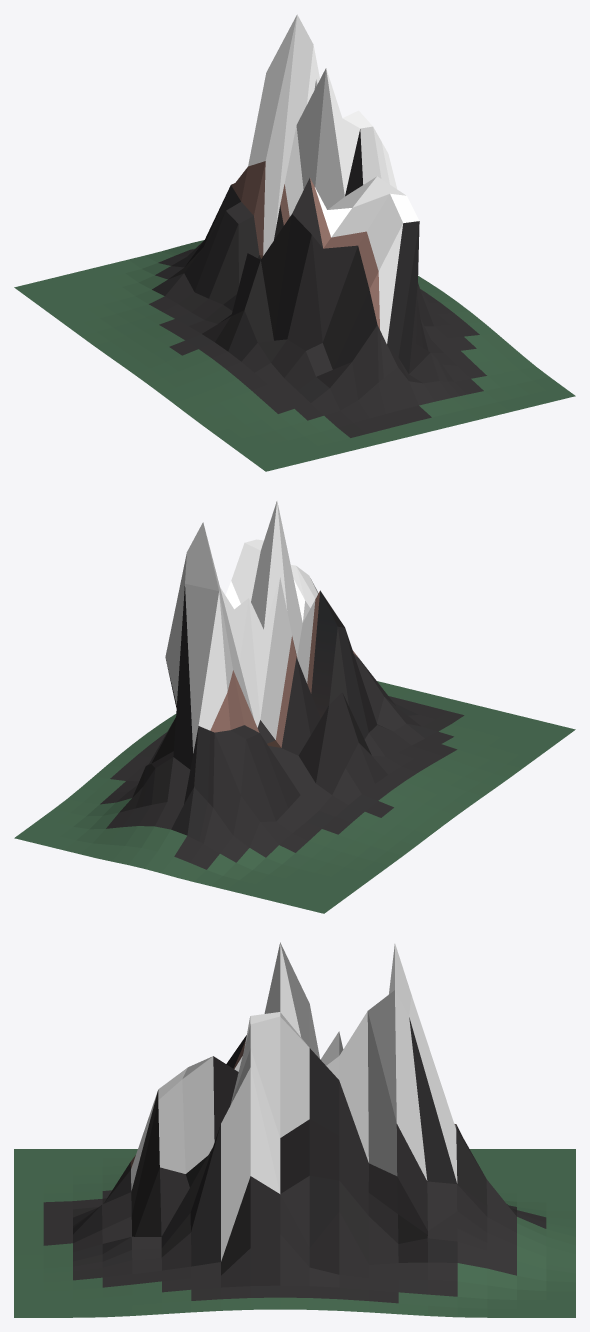
The model's file is Mountain_04.fbx.
3 renders of one model, top to bottom at view 1: azimuth 30°, elevation 25°; view 2: azimuth 150°, elevation 25°; view 3: azimuth 270°, elevation 25°, orthographic. The views are drawn at different scales.
Visible parts, largest first — view 1: Mountain_04; view 2: Mountain_04; view 3: Mountain_04.
Part boxes in pixels (x1,y1,x2,y2): Mountain_04: (14,14,575,471); Mountain_04: (14,500,575,913); Mountain_04: (14,942,575,1317).
Bounding box in the file's own units: 10665 × 9312 × 15000.
